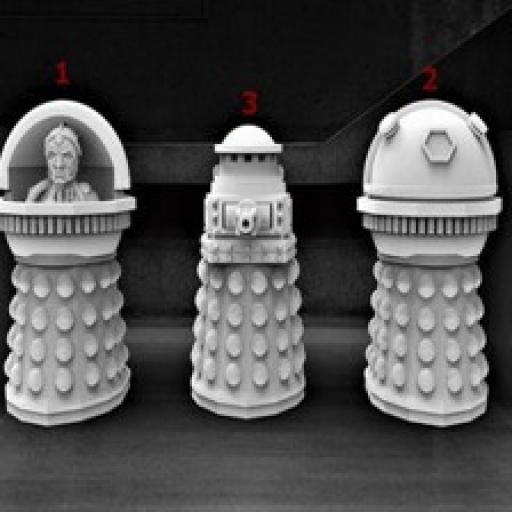dalek: (347, 95, 512, 428), (0, 89, 137, 416), (187, 120, 308, 417)
